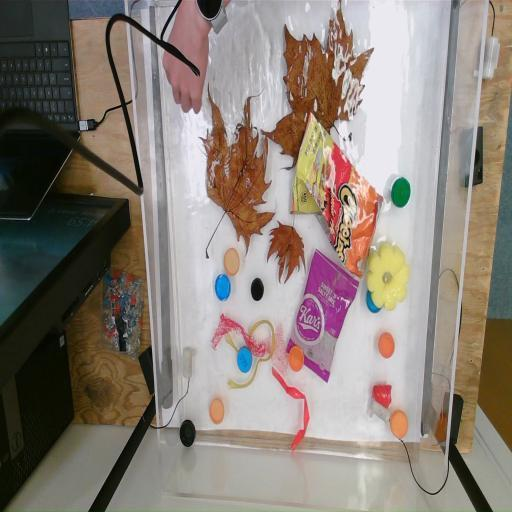Bottle Cap: (392, 175, 410, 209), (222, 245, 240, 278), (390, 410, 408, 440), (214, 274, 232, 302), (179, 420, 196, 448), (378, 332, 395, 359), (236, 346, 252, 374), (288, 346, 304, 372), (366, 290, 383, 314), (210, 398, 224, 425), (250, 278, 265, 302)
Cone Cap: (372, 384, 394, 408)
Leaf: (264, 6, 366, 168), (201, 84, 273, 263), (265, 220, 307, 284)
Netting: (210, 318, 266, 358), (265, 320, 289, 376)
Plastic Bag: (290, 111, 384, 281), (286, 248, 360, 384)
Plastic Strand: (224, 318, 276, 390), (270, 364, 310, 452)
Sponge: (367, 240, 410, 312)
